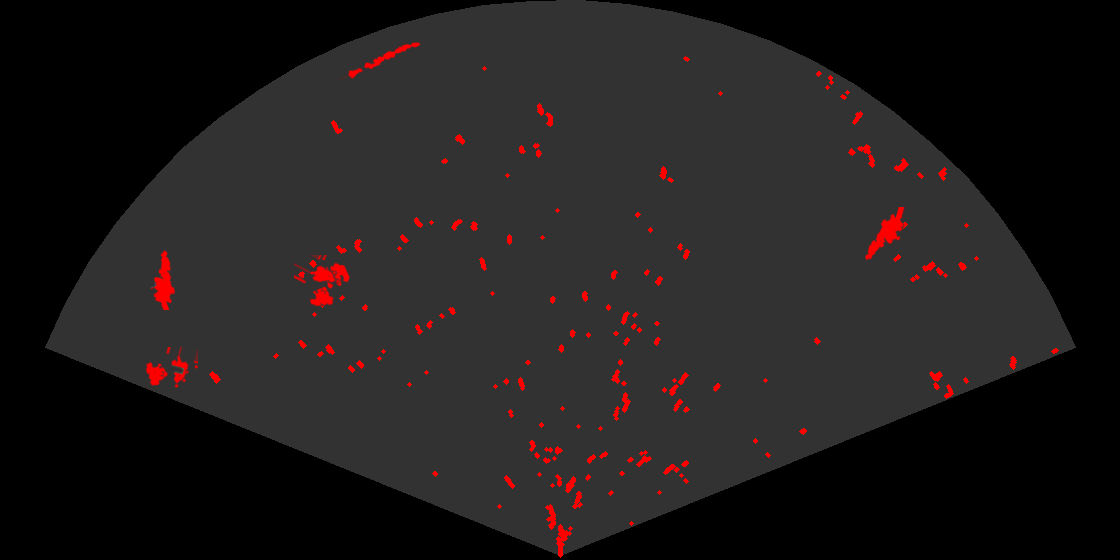ball: (321, 261, 351, 290)
cage: (294, 255, 341, 308), (144, 347, 198, 390)
chain: (339, 41, 422, 82)
frogman: (864, 207, 906, 262), (149, 249, 177, 310)
